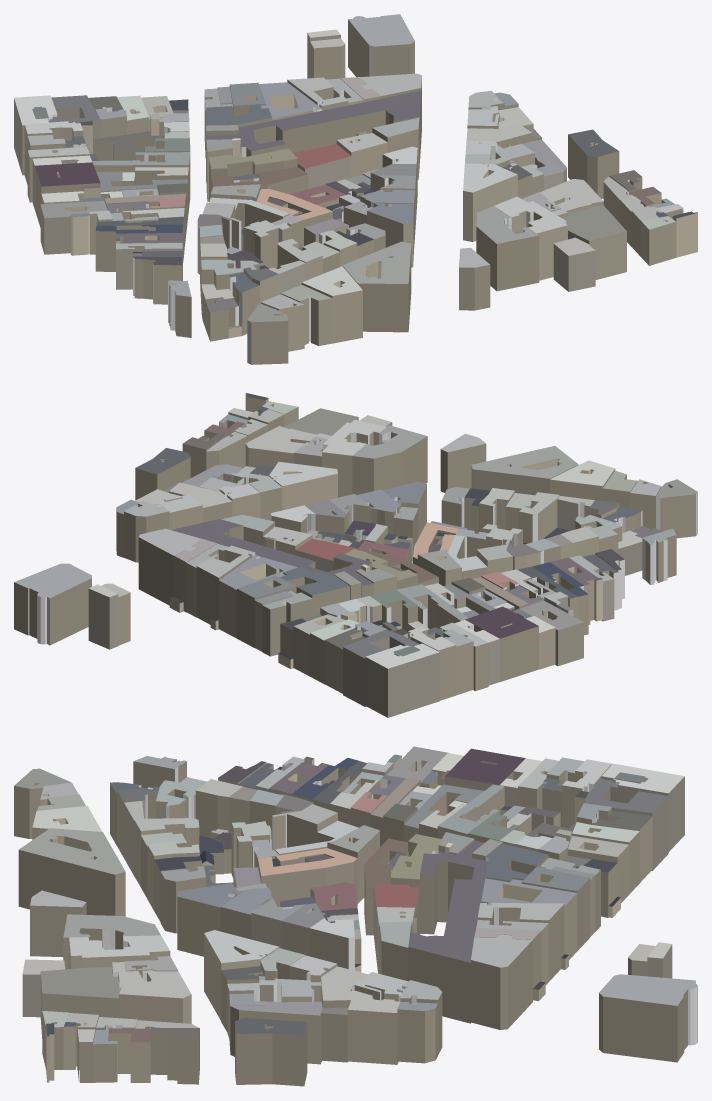
3 views of the same model, one above another, from view 1: azimuth 30°, elevation 25°; view 2: azimuth 150°, elevation 25°; view 3: azimuth 270°, elevation 25° (orthographic). The views are drawn at different scales.
Visible parts, largest first — view 1: tuile; view 2: tuile; view 3: tuile.
Part boxes in pixels (<box>): tuile: <box>14,14,697,364</box>; tuile: <box>14,393,697,717</box>; tuile: <box>14,746,697,1086</box>.
Bounding box in the file's own units: 271 × 32.53 × 271.
